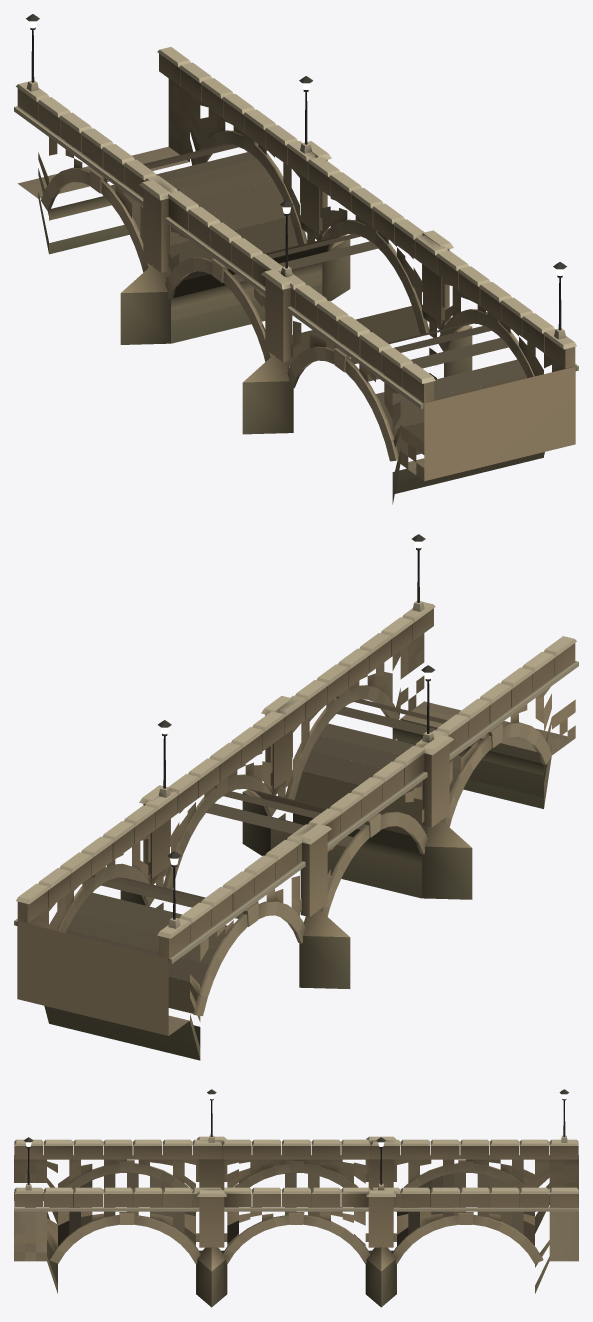
File: bridge_segura.glb
3 renders of one model, top to bottom at view 1: azimuth 30°, elevation 25°; view 2: azimuth 150°, elevation 25°; view 3: azimuth 270°, elevation 25°, orthographic. The views are drawn at different scales.
Parts seen in each view (by area): view 1: bridge_segura_mesh; view 2: bridge_segura_mesh; view 3: bridge_segura_mesh.
Boxes of the visible parts, bbox=[...] form: bridge_segura_mesh: bbox=[14, 14, 578, 504]; bridge_segura_mesh: bbox=[14, 534, 578, 1060]; bridge_segura_mesh: bbox=[14, 1089, 578, 1307].
Bounding box in the file's own units: 8.8 × 8.18 × 27.
